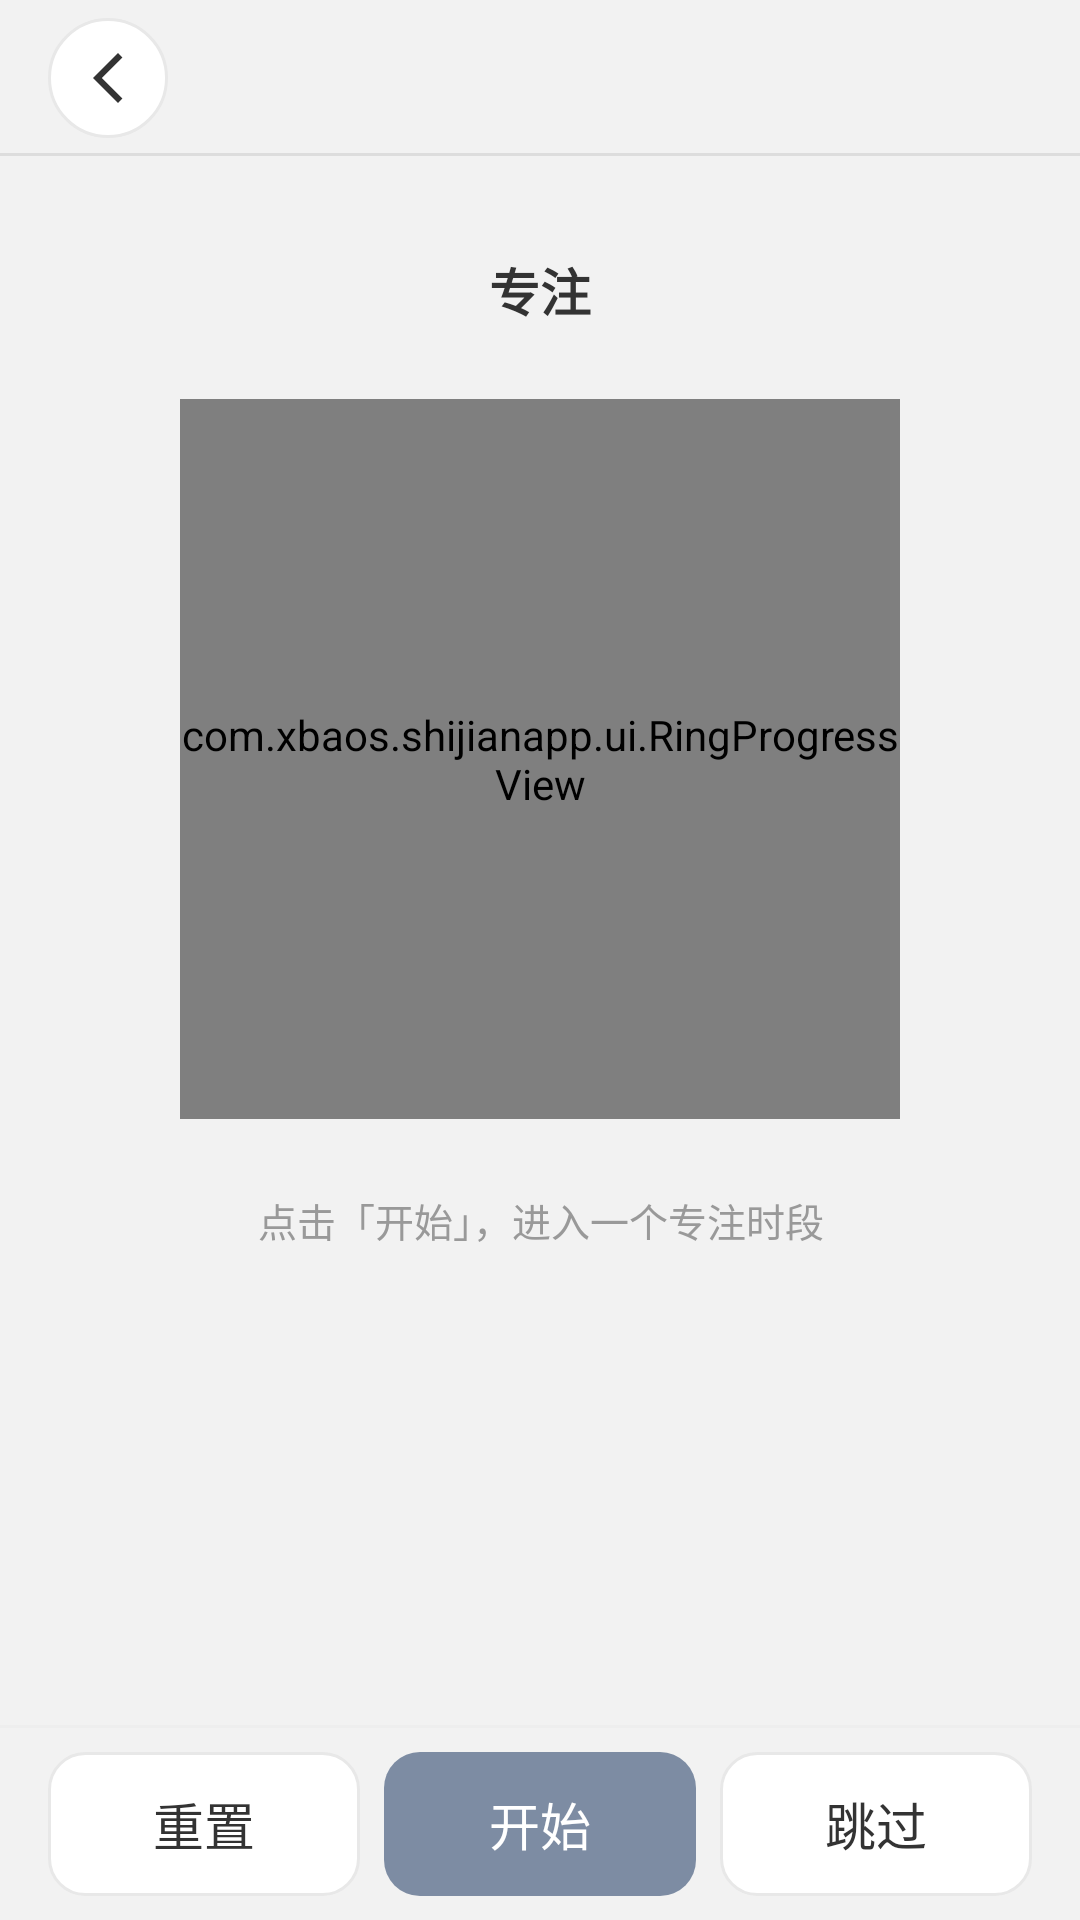

Where icons sit on this 1080*1920 app screen, as (x1, y1, x2, y2):
返回: (48, 18, 168, 138)
